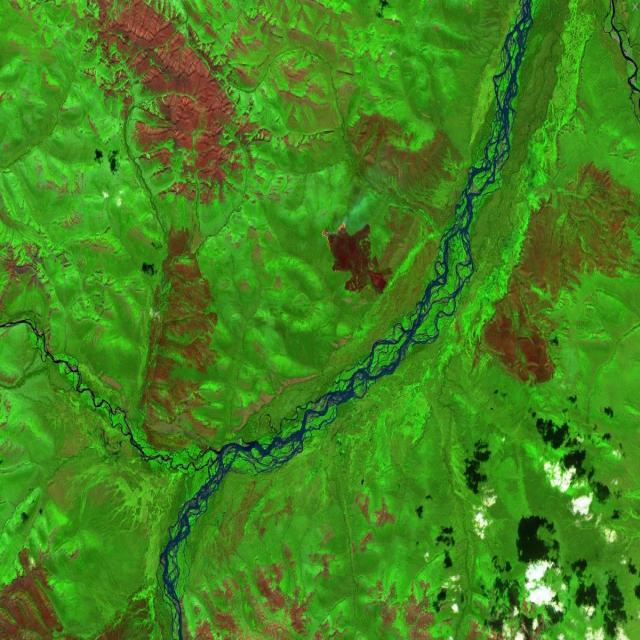fire: (318, 216, 350, 254)
